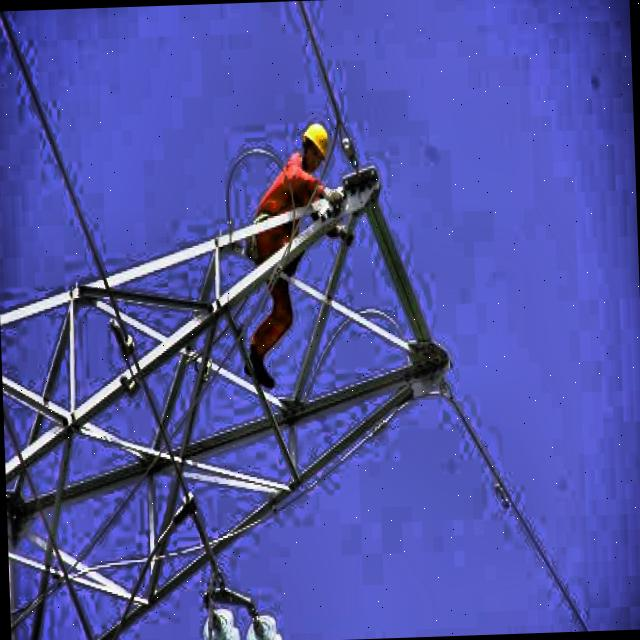helmet: (296, 117, 332, 168)
